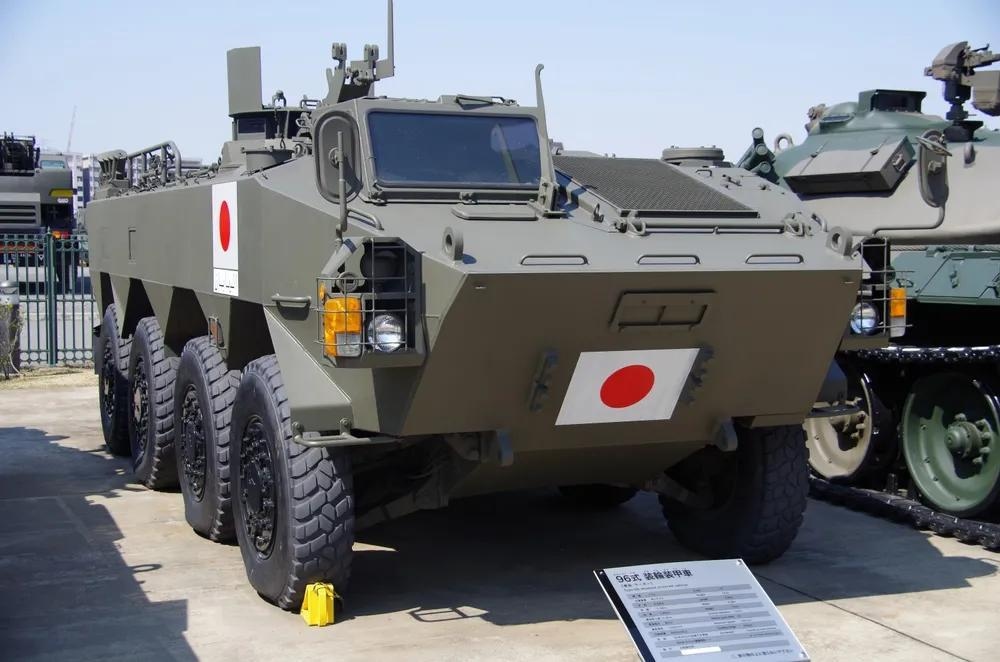MIL_IFV: (77, 47, 855, 610)
